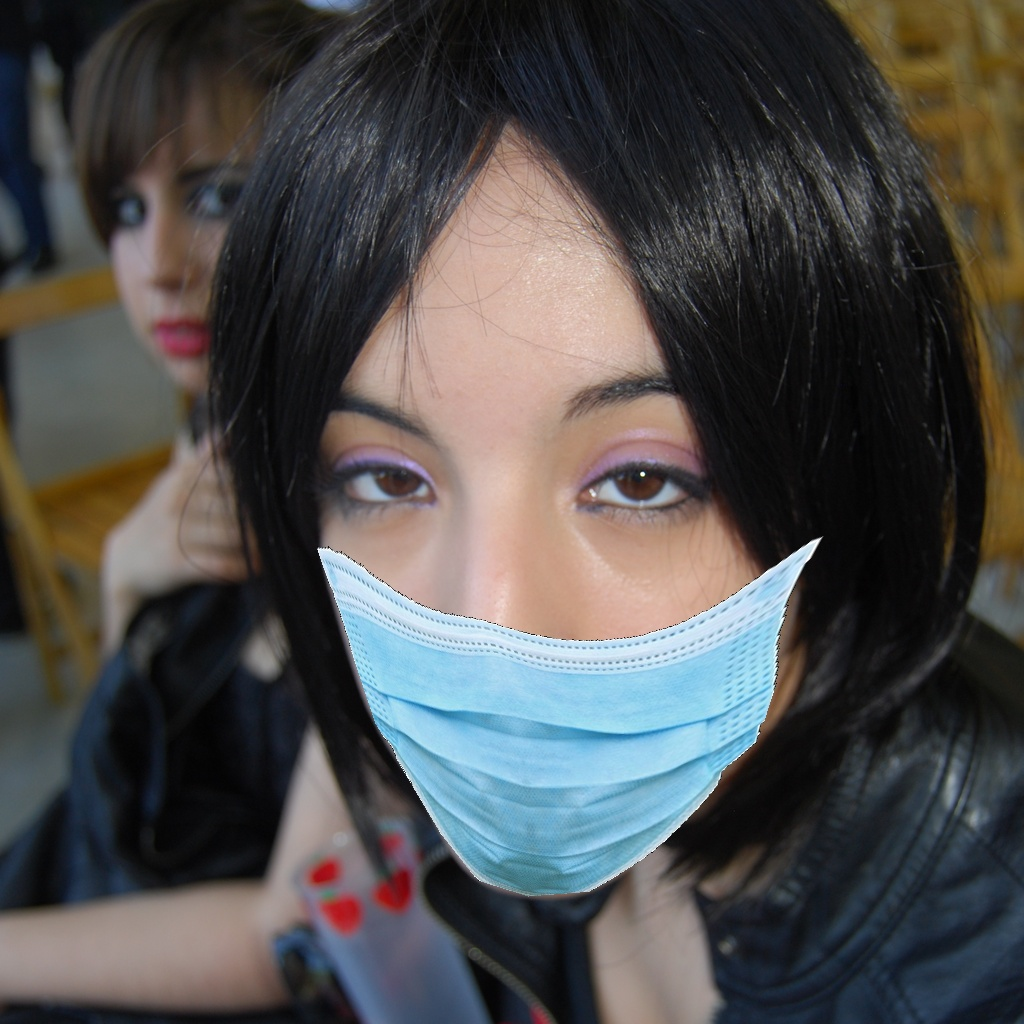with_mask: (305, 384, 787, 899)
